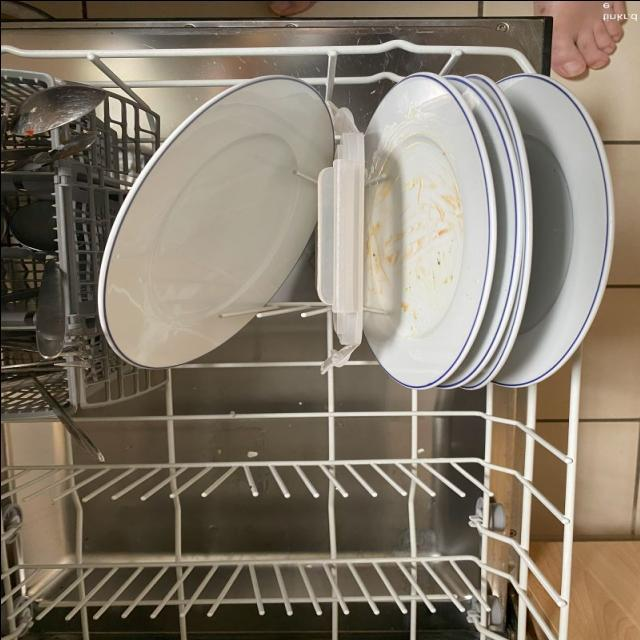clutery_bin: (0, 65, 75, 397)
empty_slot: (11, 399, 555, 640)
